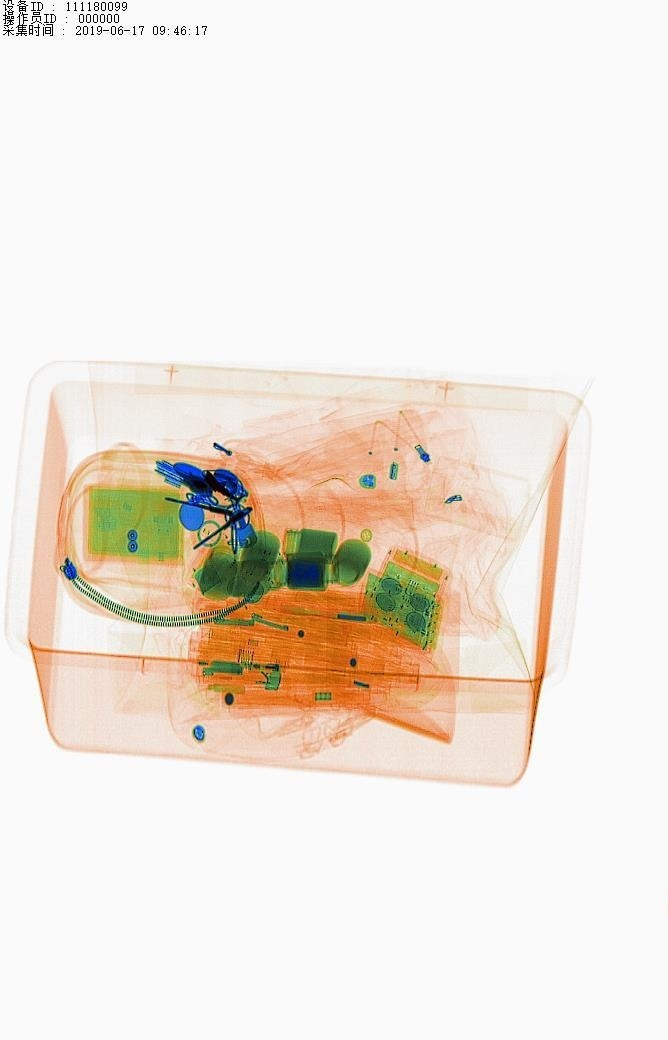NonmetallicFire: (184, 647, 293, 702)
